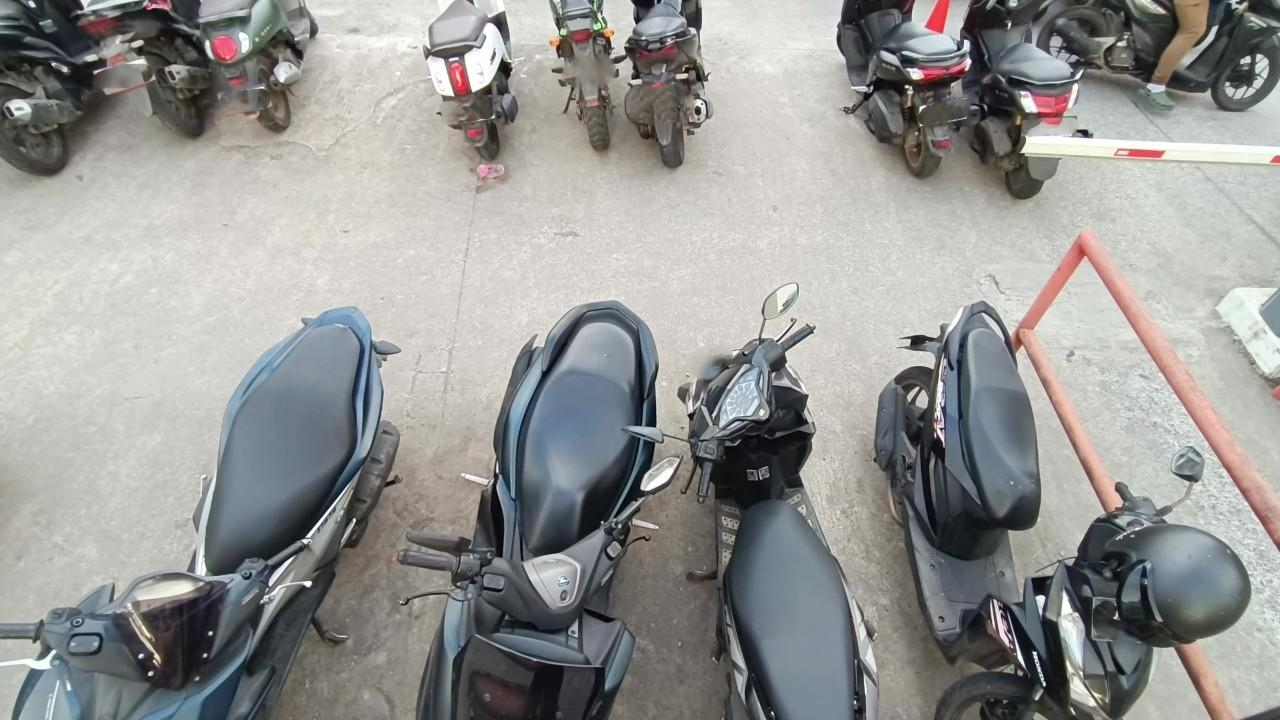motorcycle: (0, 308, 401, 720), (876, 301, 1252, 720), (397, 298, 676, 720), (633, 283, 881, 720), (1023, 0, 1280, 111), (960, 0, 1080, 200), (841, 0, 971, 177), (70, 0, 220, 139), (0, 0, 111, 178), (418, 0, 522, 170), (200, 0, 321, 133), (629, 0, 716, 172), (550, 0, 623, 152)
